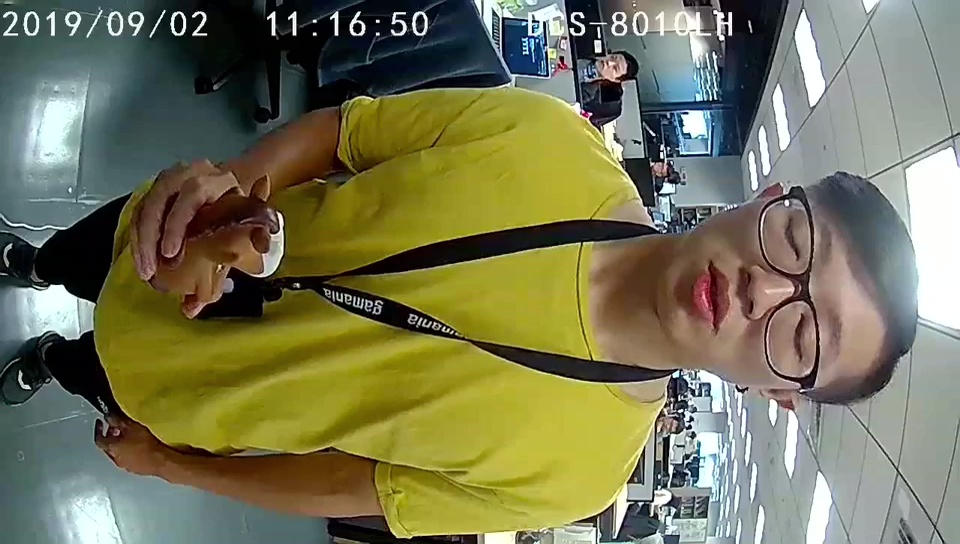horse: (196, 174, 285, 303)
